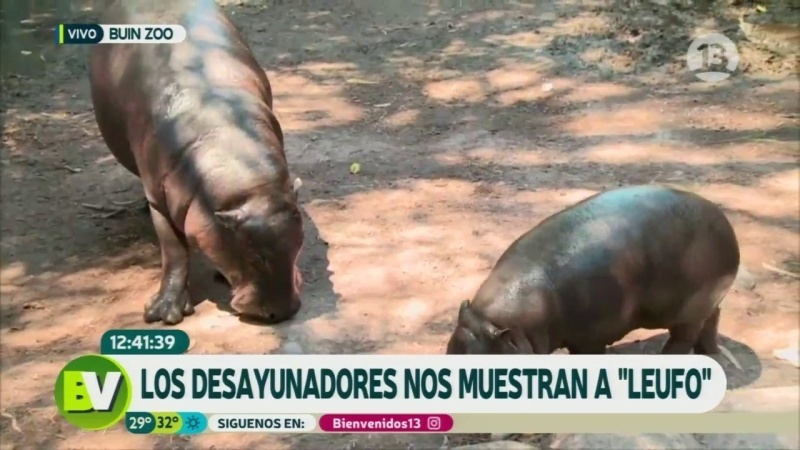hipopotamo: (82, 1, 361, 330), (417, 166, 759, 358)
